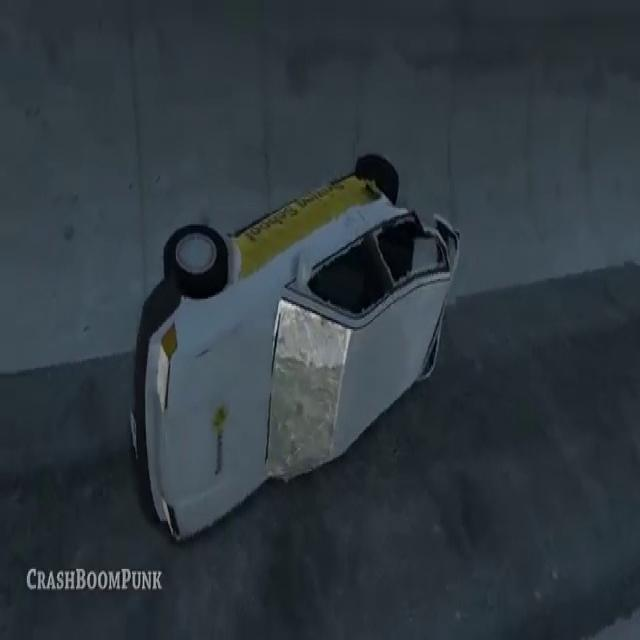severe: (122, 146, 462, 542)
